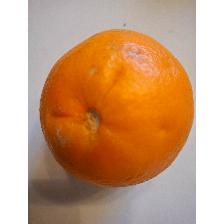Orange: (39, 24, 196, 190)
